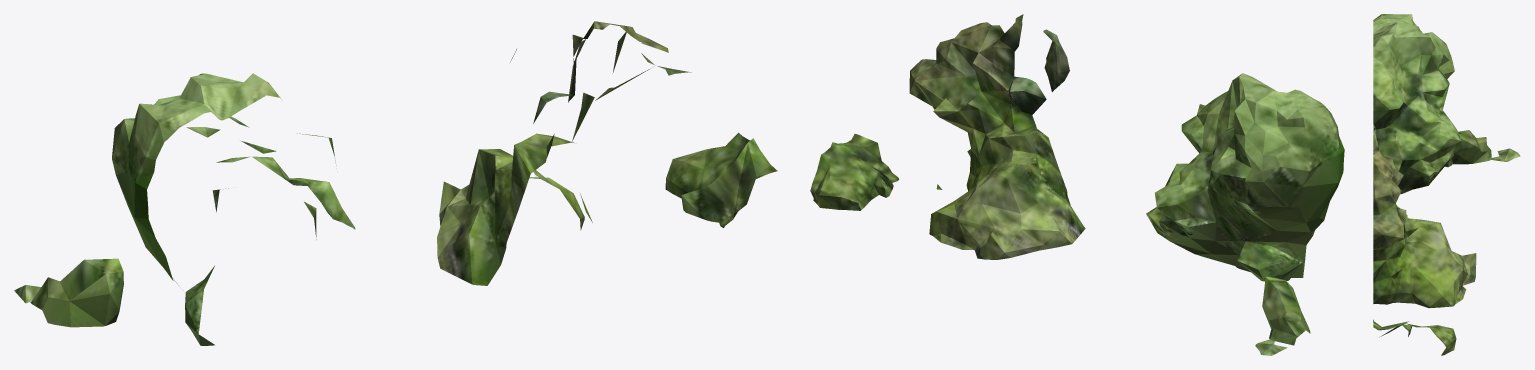
3 renders of one model, left to right at view 1: azimuth 30°, elevation 25°; view 2: azimuth 150°, elevation 25°; view 3: azimuth 270°, elevation 25°, orthographic. The views are drawn at different scales.
Size of the model in its own units: 26.11 by 9.61 by 7.91.
1 material, 1 textured.
